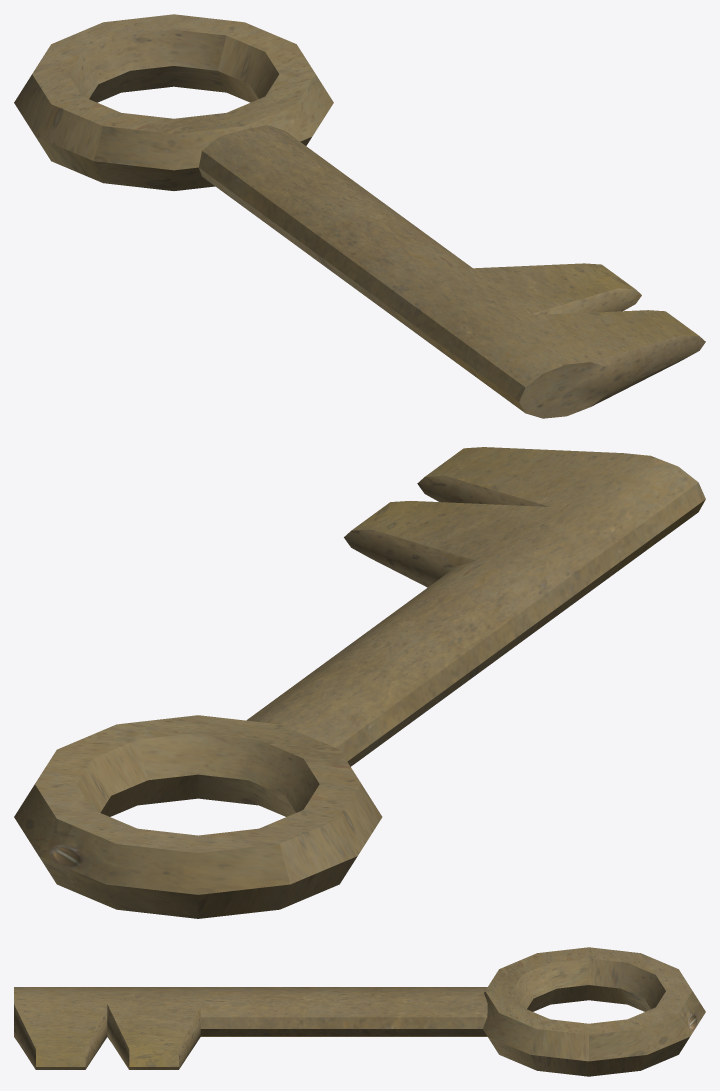
The model's file is Key.fbx.
The picture shows the model from 3 angles, top to bottom: view 1: azimuth 30°, elevation 25°; view 2: azimuth 150°, elevation 25°; view 3: azimuth 270°, elevation 25°; orthographic projection. The views are drawn at different scales.
Parts seen in each view (by area): view 1: Cylinder; view 2: Cylinder; view 3: Cylinder.
Boxes of the visible parts, x1,y1,x2,y2 form: Cylinder: (14, 14, 705, 418); Cylinder: (14, 447, 705, 918); Cylinder: (14, 947, 705, 1076).
Bounding box in the file's own units: 92.91 × 17.32 × 260.
